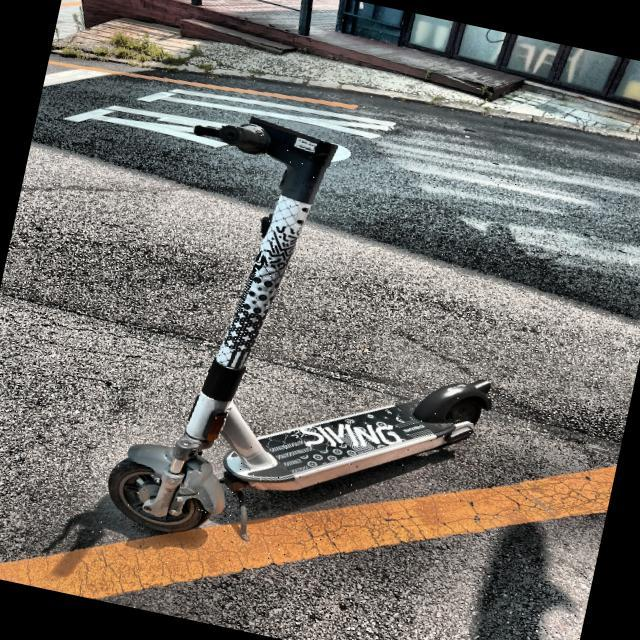bike: (106, 107, 494, 540)
